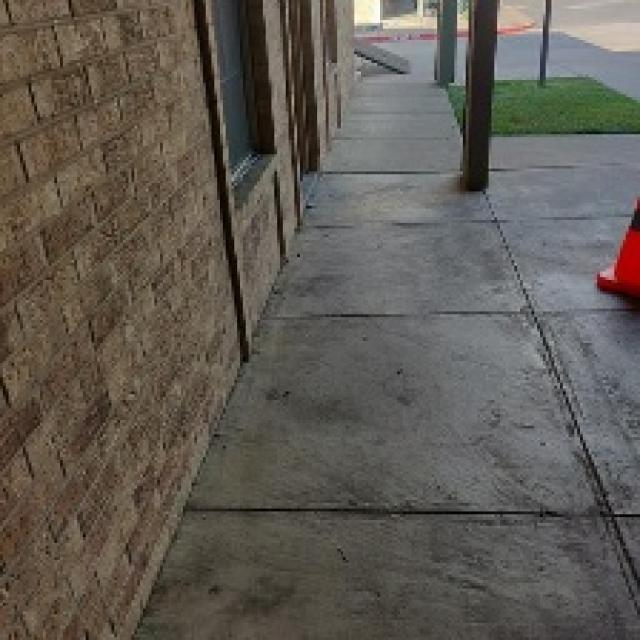traffic cone: (596, 196, 640, 308)
